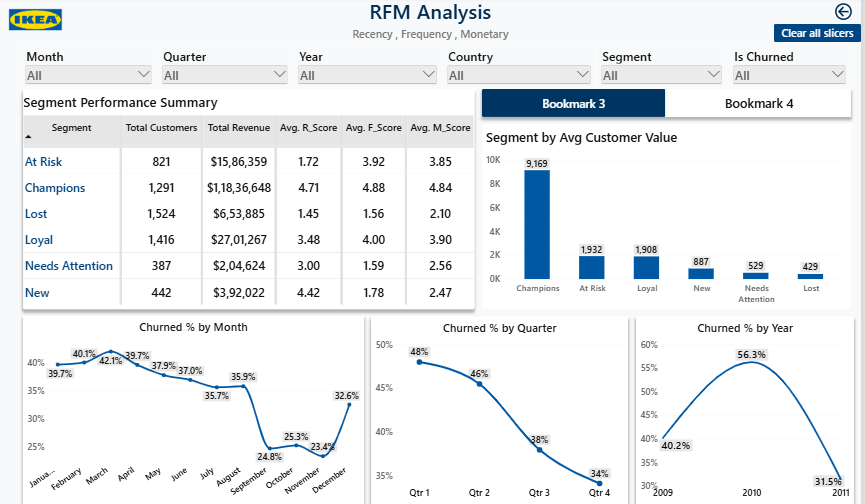

What the dashboard file says about the page in this screenshot:
{"tool":"powerbi","page":{"name":"RFM Analysis","canvas":[3390,2000],"ordinal":1},"visuals":[{"type":"pivotTable","title":"Country Performance Summary","fields":{"Rows":["Sheet.Country"],"Values":["Sheet.Total Customers","Sheet.Total Revenue","Avg(Sheet.R_Score)","Avg(Sheet.F_Score)","Avg(Sheet.M_Score)"]},"box":[89.5,374.4,1778.4,854.6],"z":0,"group":"g1"},{"type":"lineChart","title":"Churned %  by Month","fields":{"Category":["Sheet.InvoiceMonth.Variation.Date Hierarchy.Month"],"Y":["Sheet.Churned %"]},"box":[88.7,1255.9,1342.5,744.1],"z":0},{"type":"columnChart","title":"Top 5 Countries by Avg Customer Value","fields":{"Category":["Sheet.Country"],"Y":["Sheet.Average Customer Value"]},"box":[1908.6,500.6,1452.9,728.5],"z":1000,"group":"g1"},{"type":"lineChart","title":"Churned % by Quarter","fields":{"Category":["Sheet.InvoiceMonth.Variation.Date Hierarchy.Quarter"],"Y":["Sheet.Churned %"]},"box":[1458.8,1255.9,1011.8,744.1],"z":1000},{"type":"lineChart","title":"Churned % by Year","fields":{"Category":["Sheet.InvoiceMonth.Variation.Date Hierarchy.Year"],"Y":["Sheet.Churned %"]},"box":[2502.1,1255.9,858.3,744.1],"z":2000},{"type":"slicer","fields":{"Values":["Sheet.InvoiceMonth.Variation.Date Hierarchy.Month"]},"box":[78.7,181.1,539.4,181.1],"z":3000},{"type":"slicer","fields":{"Values":["Sheet.InvoiceMonth.Variation.Date Hierarchy.Quarter"]},"box":[618.1,181.1,535.4,181.1],"z":4000},{"type":"slicer","fields":{"Values":["Sheet.InvoiceMonth.Variation.Date Hierarchy.Year"]},"box":[1153.5,181.1,586.6,181.1],"z":5000},{"type":"slicer","fields":{"Values":["Sheet.Country"]},"box":[1740.2,181.1,606.3,181.1],"z":6000},{"type":"slicer","fields":{"Values":["Sheet.Segment"]},"box":[2346.5,181.1,515.7,181.1],"z":7000},{"type":"slicer","fields":{"Values":["Sheet.IsChurned"]},"box":[2866.1,181.1,484.3,181.1],"z":8000},{"type":"bookmarkNavigator","box":[1897.6,362.2,1452.8,110.2],"z":10000},{"type":"image","box":[0,0,279,179.1],"z":11000},{"type":"textbox","box":[1024.5,0,1341,108.3],"z":12000},{"type":"textbox","box":[1047.2,114.2,1295.3,66.9],"z":13000},{"type":"actionButton","box":[3236.4,0,153.6,114.2],"z":14000},{"type":"actionButton","box":[3047.5,106.3,342.5,70.9],"z":15000},{"type":"group","id":"g1","title":"Group 1","box":[89.5,374.4,3272,854.6],"z":17000}]}

Visuals, with their boxes in screenshot pixels (x1, y1, x2, y2), scaled from the page's 3390x2000 canvas onto the 865x504 screenshot:
"Country Performance Summary" pivotTable: {"x1": 23, "y1": 94, "x2": 477, "y2": 310}
"Churned %  by Month" lineChart: {"x1": 23, "y1": 316, "x2": 365, "y2": 503}
"Top 5 Countries by Avg Customer Value" columnChart: {"x1": 487, "y1": 126, "x2": 858, "y2": 310}
"Churned % by Quarter" lineChart: {"x1": 372, "y1": 316, "x2": 630, "y2": 503}
"Churned % by Year" lineChart: {"x1": 638, "y1": 316, "x2": 857, "y2": 503}
slicer - Sheet.InvoiceMonth.Variation.Date Hierarchy.Month: {"x1": 20, "y1": 46, "x2": 158, "y2": 91}
slicer - Sheet.InvoiceMonth.Variation.Date Hierarchy.Quarter: {"x1": 158, "y1": 46, "x2": 294, "y2": 91}
slicer - Sheet.InvoiceMonth.Variation.Date Hierarchy.Year: {"x1": 294, "y1": 46, "x2": 444, "y2": 91}
slicer - Sheet.Country: {"x1": 444, "y1": 46, "x2": 599, "y2": 91}
slicer - Sheet.Segment: {"x1": 599, "y1": 46, "x2": 730, "y2": 91}
slicer - Sheet.IsChurned: {"x1": 731, "y1": 46, "x2": 855, "y2": 91}
bookmarkNavigator: {"x1": 484, "y1": 91, "x2": 855, "y2": 119}
image: {"x1": 0, "y1": 0, "x2": 71, "y2": 45}
textbox: {"x1": 261, "y1": 0, "x2": 604, "y2": 27}
textbox: {"x1": 267, "y1": 29, "x2": 598, "y2": 46}
actionButton: {"x1": 826, "y1": 0, "x2": 864, "y2": 29}
actionButton: {"x1": 778, "y1": 27, "x2": 864, "y2": 45}
"Group 1" group: {"x1": 23, "y1": 94, "x2": 858, "y2": 310}
